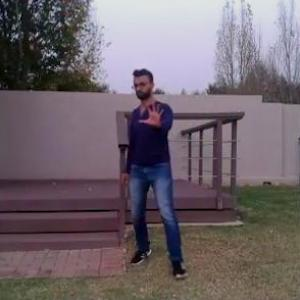follow_hand: (136, 96, 167, 131)
